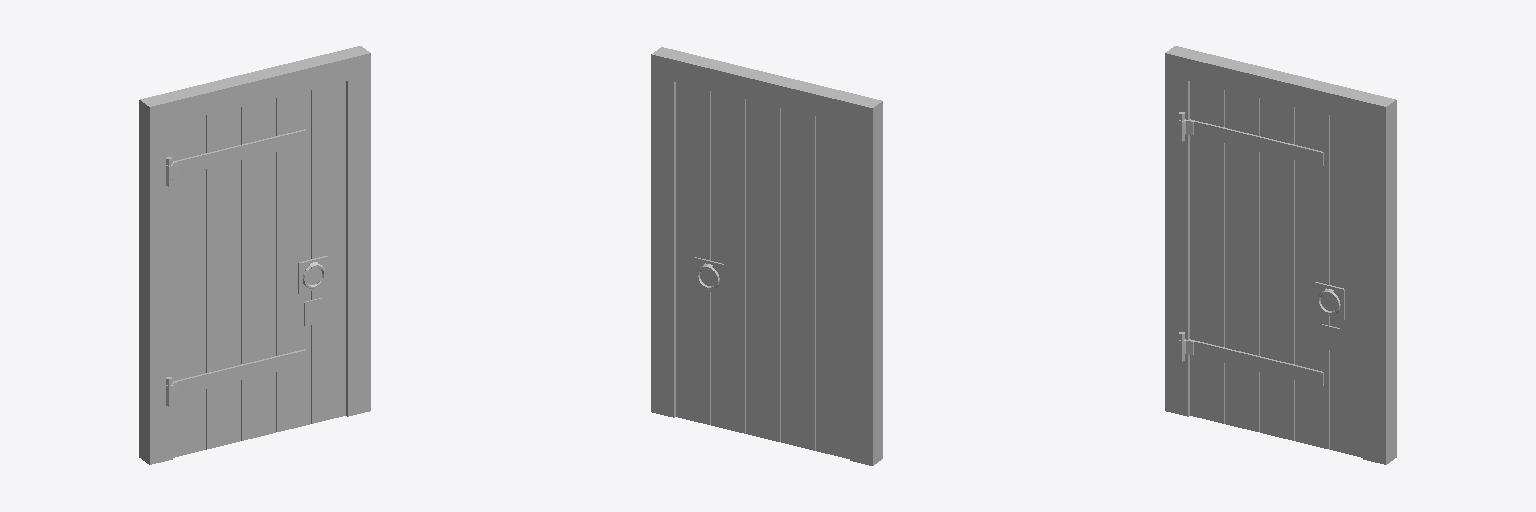
The model's file is door_n3.obj.
The picture shows the model from 3 angles: view 1: azimuth 30°, elevation 25°; view 2: azimuth 150°, elevation 25°; view 3: azimuth 330°, elevation 25°; orthographic projection.
Visible parts, largest first — view 1: door_n3, door_n3_ot; view 2: door_n3, door_n3_ot; view 3: door_n3, door_n3_ot.
Boxes of the visible parts, box(x1,y1,x2,y2) form: door_n3: box(166, 81, 345, 457); door_n3_ot: box(139, 46, 370, 464); door_n3: box(676, 82, 849, 458); door_n3_ot: box(651, 47, 882, 465); door_n3: box(1179, 81, 1362, 457); door_n3_ot: box(1165, 46, 1396, 464).
Size of the model in its own units: 59.67 by 92.27 by 6.74.